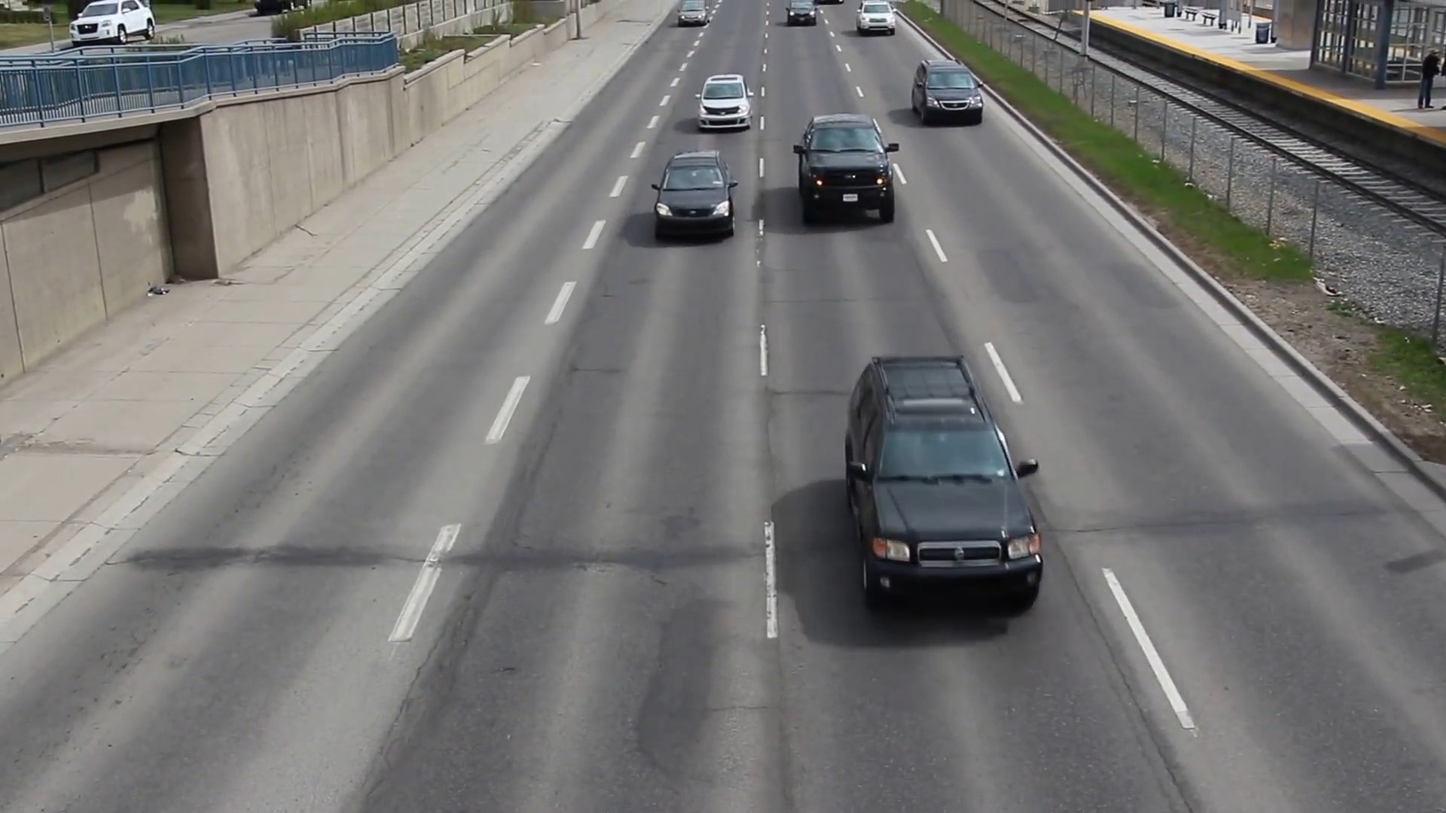car: (851, 352, 1048, 610), (797, 111, 902, 230), (652, 157, 741, 240), (908, 59, 992, 131), (693, 62, 757, 136)
